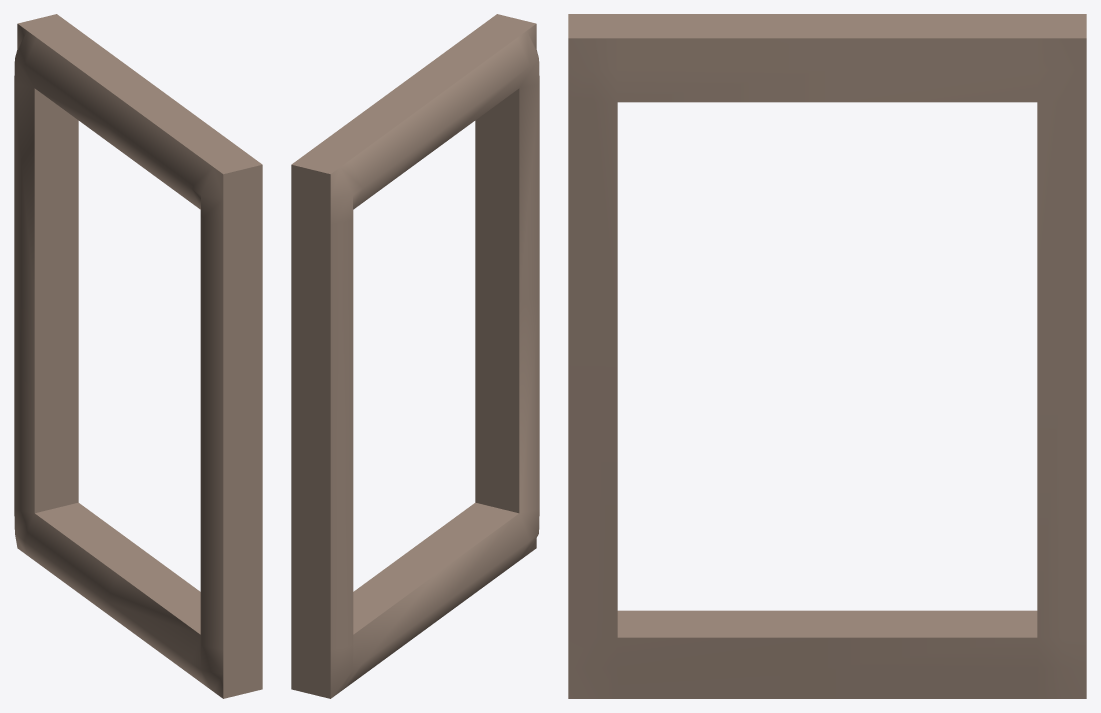
The model's file is Digdig bild ram.fbx.
The picture shows the model from 3 angles, left to right: view 1: azimuth 30°, elevation 25°; view 2: azimuth 150°, elevation 25°; view 3: azimuth 270°, elevation 25°; orthographic projection. The views are drawn at different scales.
Visible parts, largest first — view 1: pCube1; view 2: pCube1; view 3: pCube1.
Part boxes in pixels (box(x1,y1,x2,y2)): pCube1: box(14, 14, 262, 698); pCube1: box(291, 14, 539, 698); pCube1: box(568, 14, 1086, 698).
Bounding box in the file's own units: 0.129 × 1.18 × 0.8425.
